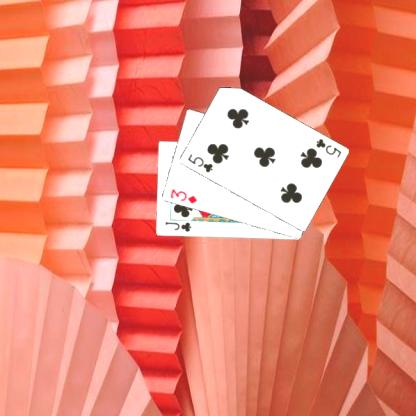3D: (167, 186, 198, 205)
5C: (184, 151, 214, 174), (313, 136, 342, 159)
JC: (162, 219, 193, 233)
